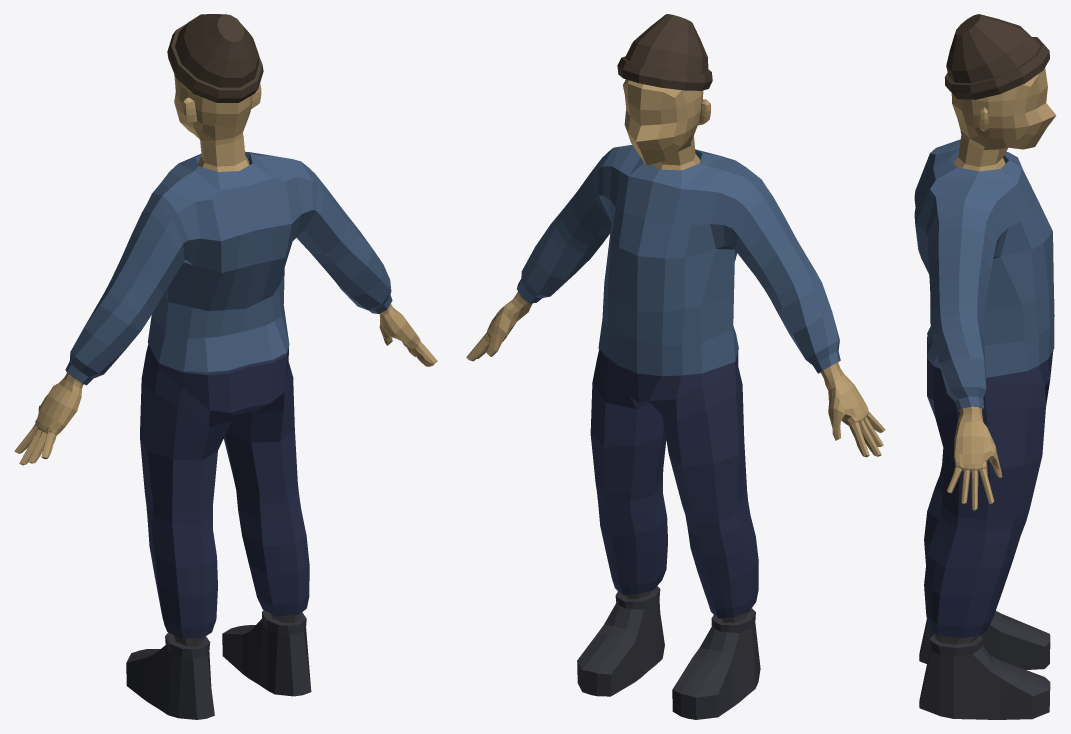
The model's file is Character3.fbx.
3 renders of one model, left to right at view 1: azimuth 30°, elevation 25°; view 2: azimuth 150°, elevation 25°; view 3: azimuth 270°, elevation 25°, orthographic.
Parts seen in each view (by area): view 1: Human, Beanie; view 2: Human, Beanie; view 3: Human, Beanie.
Boxes of the visible parts, left/top/right/bottom form: Human: left=14, top=75, right=437, bottom=719; Beanie: left=167, top=14, right=263, bottom=102; Human: left=466, top=79, right=885, bottom=719; Beanie: left=617, top=14, right=712, bottom=90; Human: left=914, top=67, right=1056, bottom=719; Beanie: left=944, top=14, right=1049, bottom=99.
Bounding box in the file's own units: 133 × 39.69 × 207.
